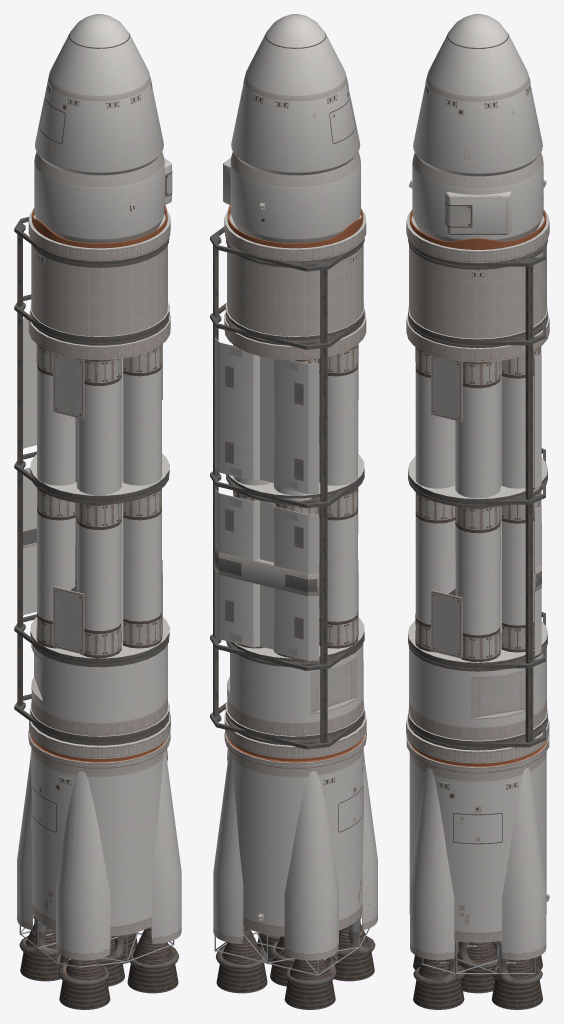
Rendered from _rocket.FBX.
3 renders of one model, left to right at view 1: azimuth 30°, elevation 25°; view 2: azimuth 150°, elevation 25°; view 3: azimuth 270°, elevation 25°, orthographic.
Parts seen in each view (by area): view 1: body, bottom, head, part 2, part 1; view 2: body, bottom, head, part 2, part 1; view 3: body, bottom, head, part 2, part 1.
Boxes of the visible parts, left/top/right/bottom form: body: left=14, top=217, right=170, bottom=745; bottom: left=17, top=730, right=181, bottom=1009; head: left=34, top=14, right=172, bottom=243; part 2: left=28, top=205, right=170, bottom=261; part 1: left=29, top=712, right=170, bottom=761; body: left=210, top=226, right=366, bottom=749; bottom: left=213, top=731, right=377, bottom=1009; head: left=223, top=14, right=360, bottom=243; part 2: left=224, top=205, right=366, bottom=261; part 1: left=224, top=711, right=366, bottom=761; body: left=406, top=239, right=549, bottom=750; bottom: left=406, top=734, right=549, bottom=1009; head: left=409, top=14, right=546, bottom=241; part 2: left=406, top=209, right=549, bottom=263; part 1: left=406, top=715, right=549, bottom=766.
Bounding box in the file's own units: 242 × 1803 × 243.
